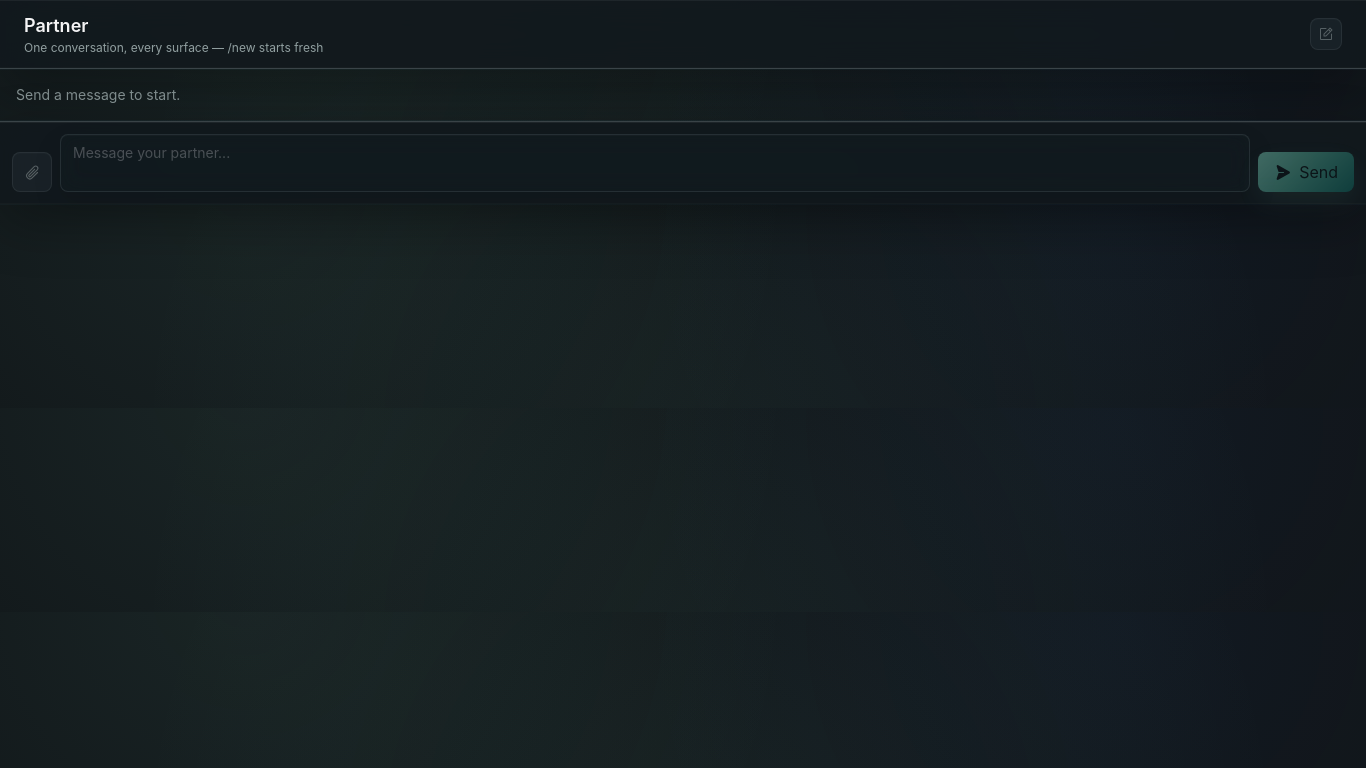
Test: AssistantView › /new in the composer rotates the current conversation
Type "/new" into the text box with placeholder "Message your partner..." at (655, 163), box [60,134,1250,192]
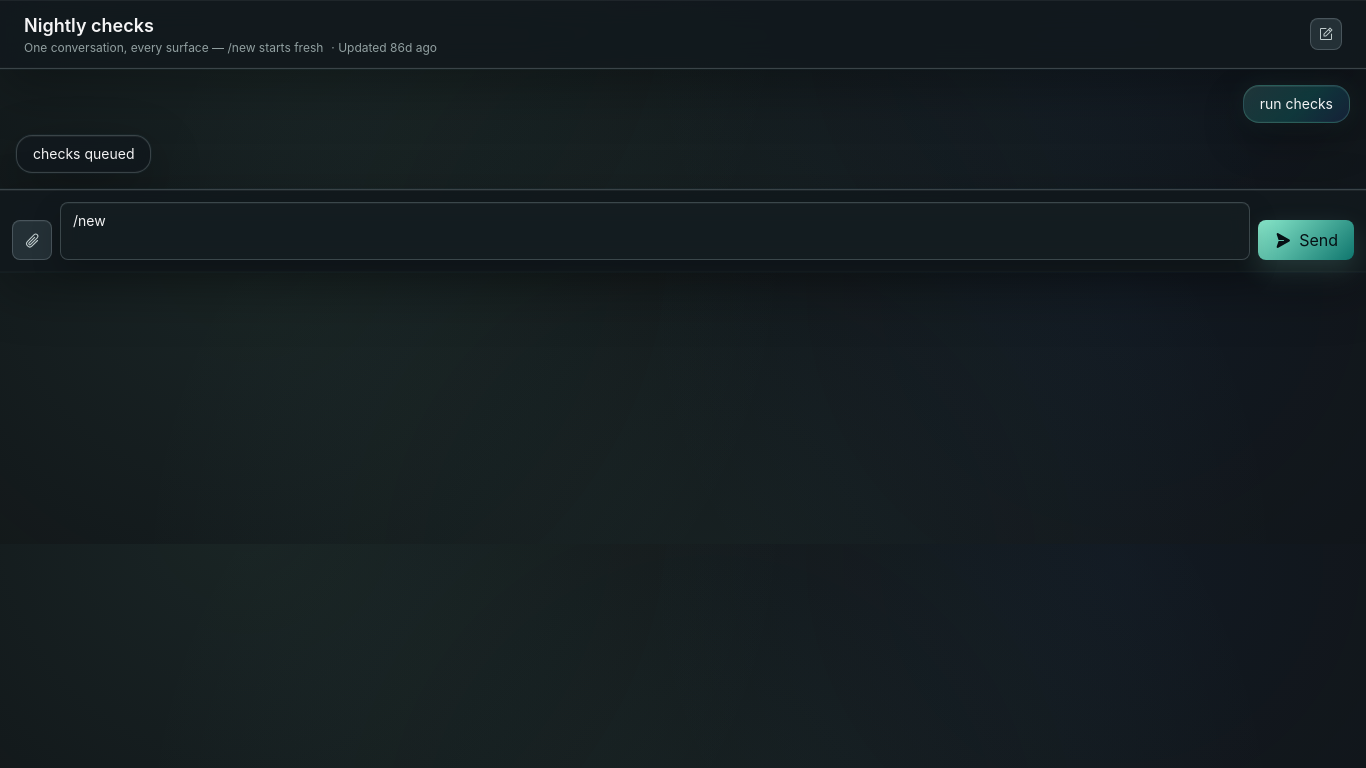
Press Enter in the text box with placeholder "Message your partner...", box [60,202,1250,260]
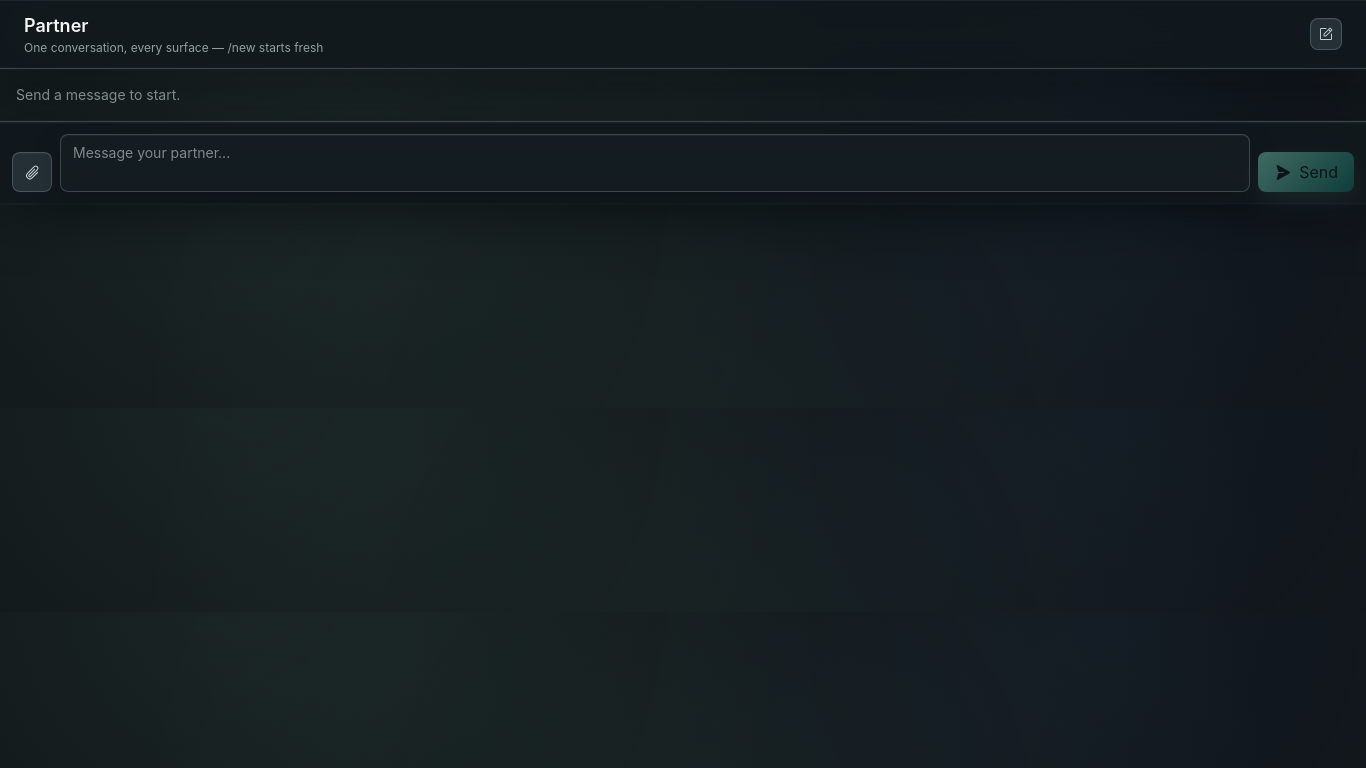
Expected: the text "Send a message to start." is shown, [16,86,180,103]
